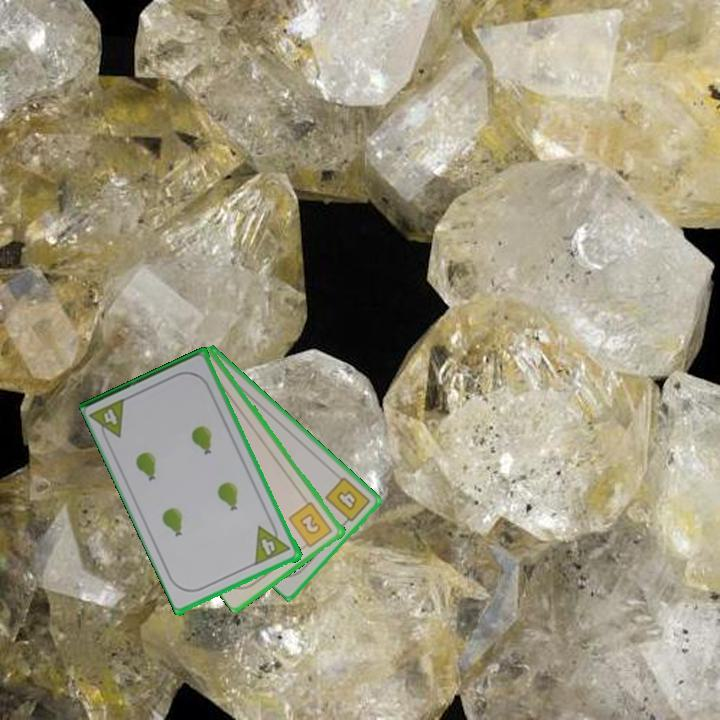2b: (285, 498, 336, 552)
4b: (322, 473, 373, 529)
4p: (88, 394, 130, 446), (251, 518, 294, 568)
